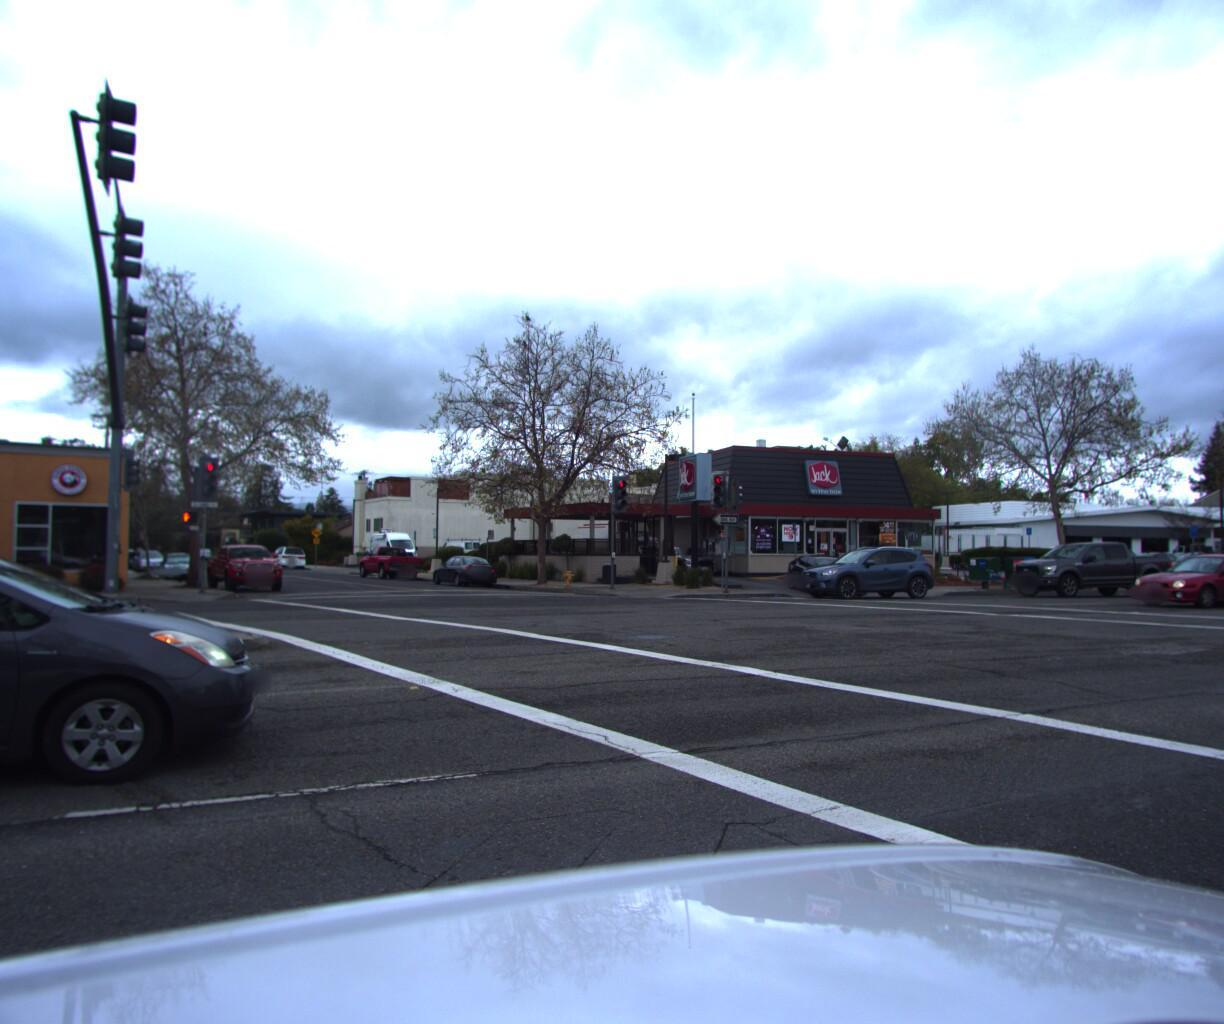car: (0, 474, 272, 866), (999, 555, 1168, 606), (786, 549, 934, 605), (1120, 556, 1224, 614), (204, 551, 291, 602), (358, 552, 428, 591), (431, 562, 501, 599), (156, 563, 204, 592), (270, 552, 312, 577), (135, 559, 175, 581), (1213, 552, 1224, 587)
truck: (368, 536, 422, 575)
